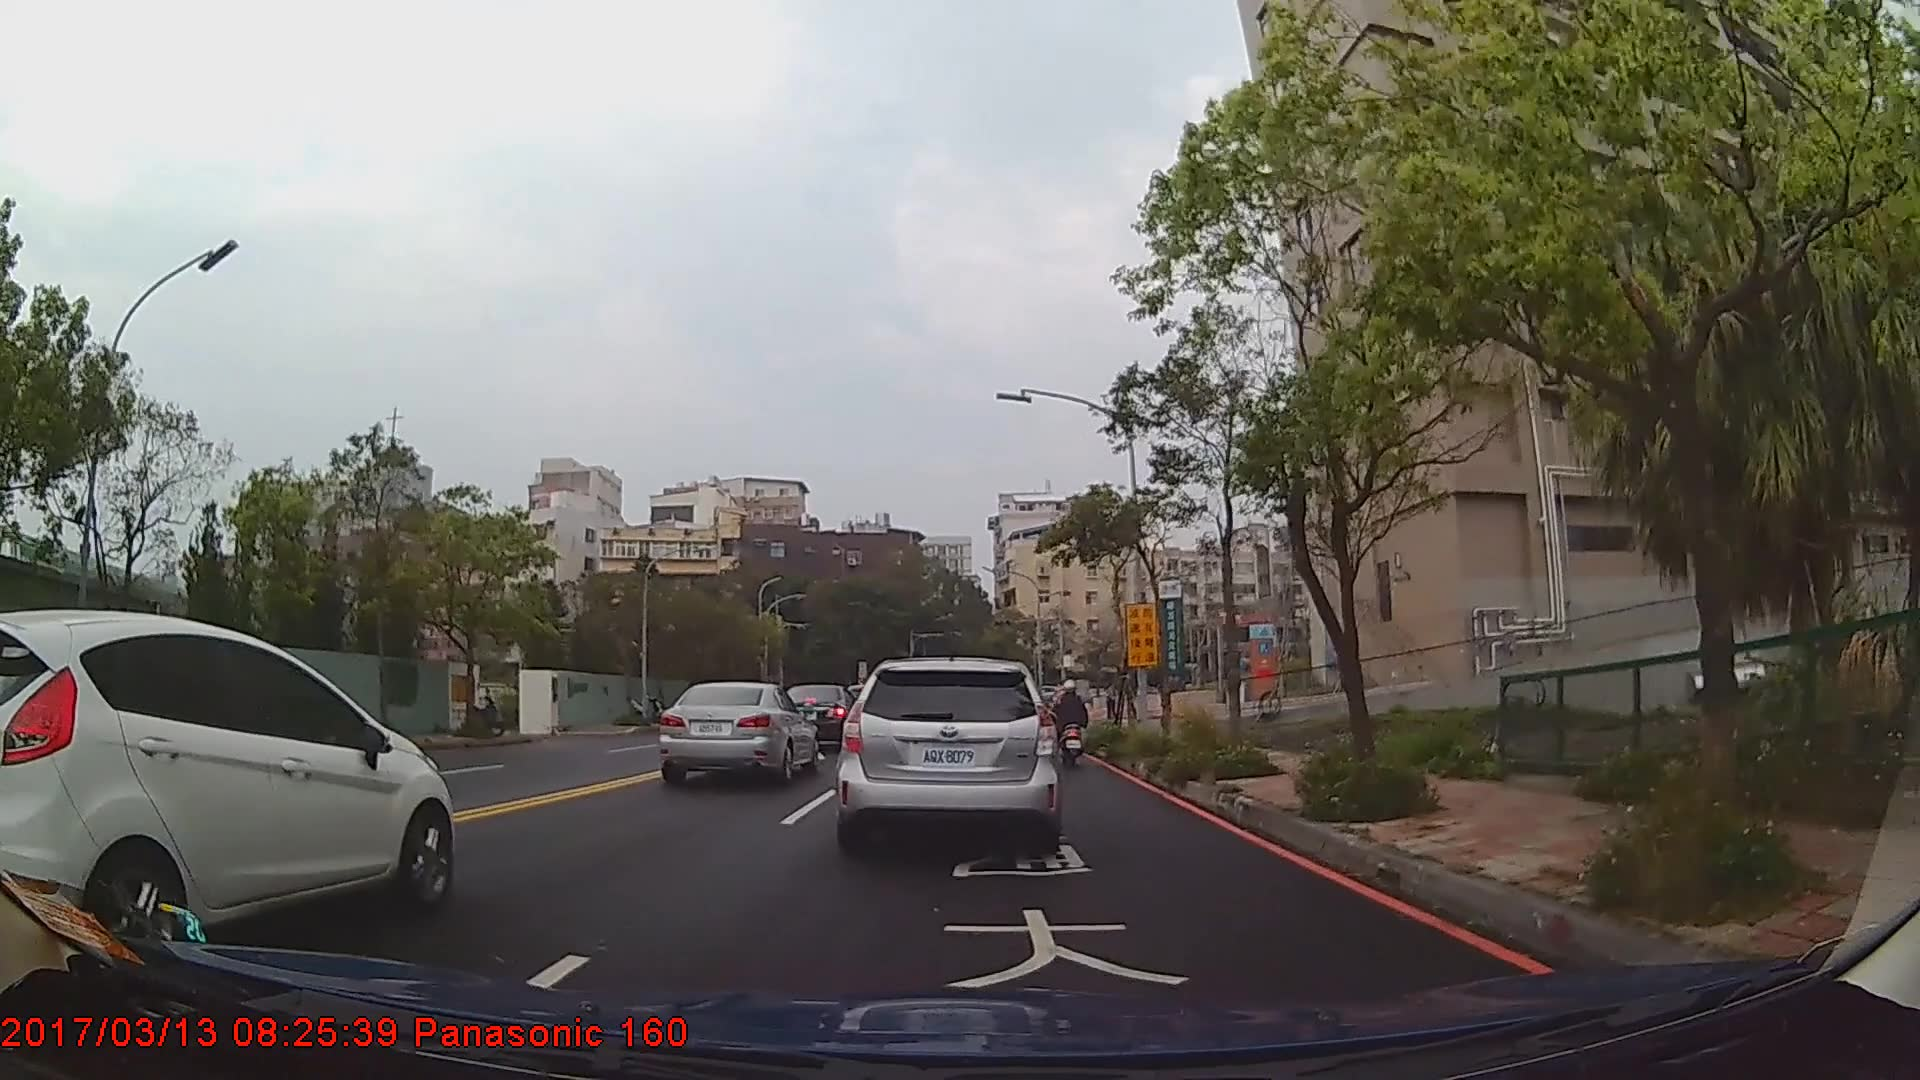rider: (1056, 682, 1092, 769)
vehicle: (0, 608, 456, 974), (831, 652, 1060, 854), (658, 681, 820, 786), (778, 683, 855, 749)
